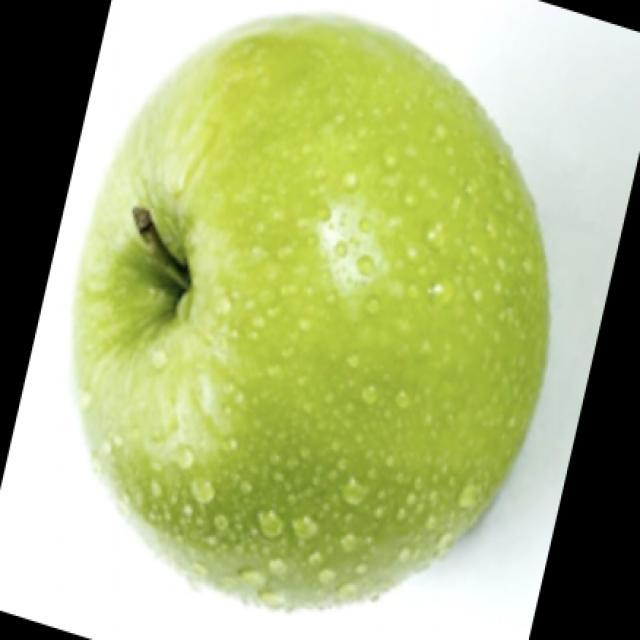Fresh Apple: (94, 32, 528, 580)
